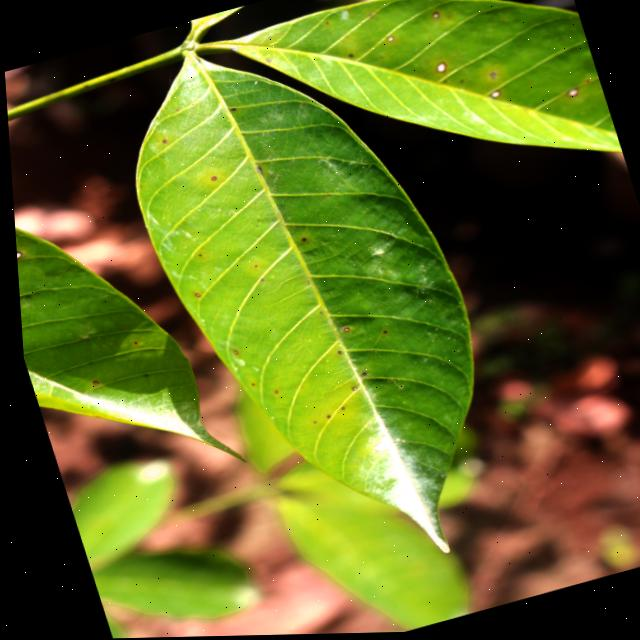Colletotrichum: (432, 61, 447, 76), (487, 90, 500, 101), (13, 248, 20, 258), (208, 175, 214, 181)
